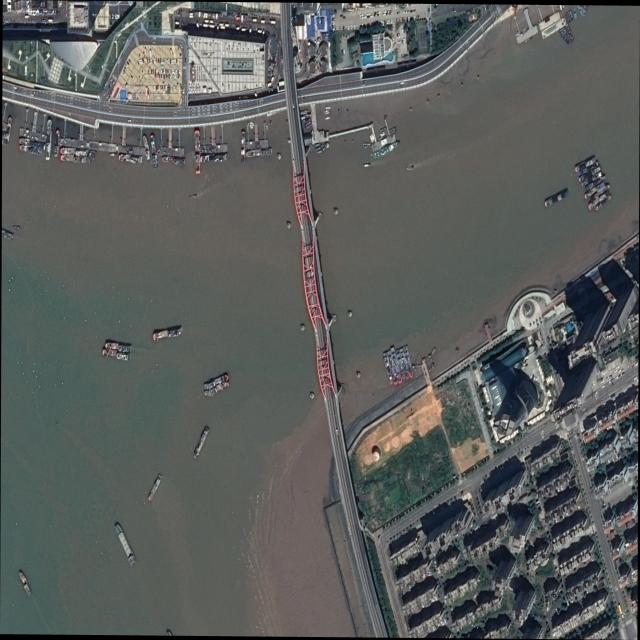large-vehicle: (618, 604, 624, 619)
ship: (114, 522, 137, 566), (541, 17, 567, 39), (373, 140, 400, 159), (193, 426, 209, 458), (390, 346, 403, 384), (545, 188, 570, 207), (588, 190, 609, 210), (153, 327, 183, 341), (148, 473, 163, 501), (204, 374, 229, 390), (204, 382, 229, 397), (579, 165, 601, 182), (18, 570, 32, 596), (403, 345, 414, 378), (585, 181, 605, 199), (585, 175, 606, 192), (399, 347, 410, 379), (102, 349, 131, 361), (590, 184, 610, 201), (19, 138, 45, 151), (575, 156, 596, 172), (45, 119, 53, 160), (383, 352, 393, 384), (194, 130, 201, 174), (582, 171, 602, 186), (578, 162, 598, 176), (150, 134, 158, 169), (396, 349, 405, 380), (19, 144, 42, 156), (60, 147, 87, 157), (106, 342, 131, 352), (595, 196, 611, 211), (246, 148, 272, 157), (143, 135, 151, 163), (4, 117, 12, 145), (201, 154, 228, 162), (61, 154, 85, 163), (162, 156, 185, 165), (119, 154, 142, 163), (54, 129, 60, 158), (241, 132, 246, 162), (406, 165, 414, 171), (363, 163, 370, 167), (109, 153, 116, 156)
